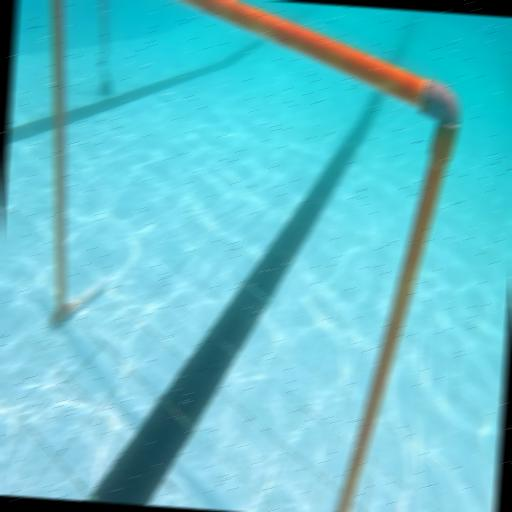gate: (14, 0, 466, 512)
